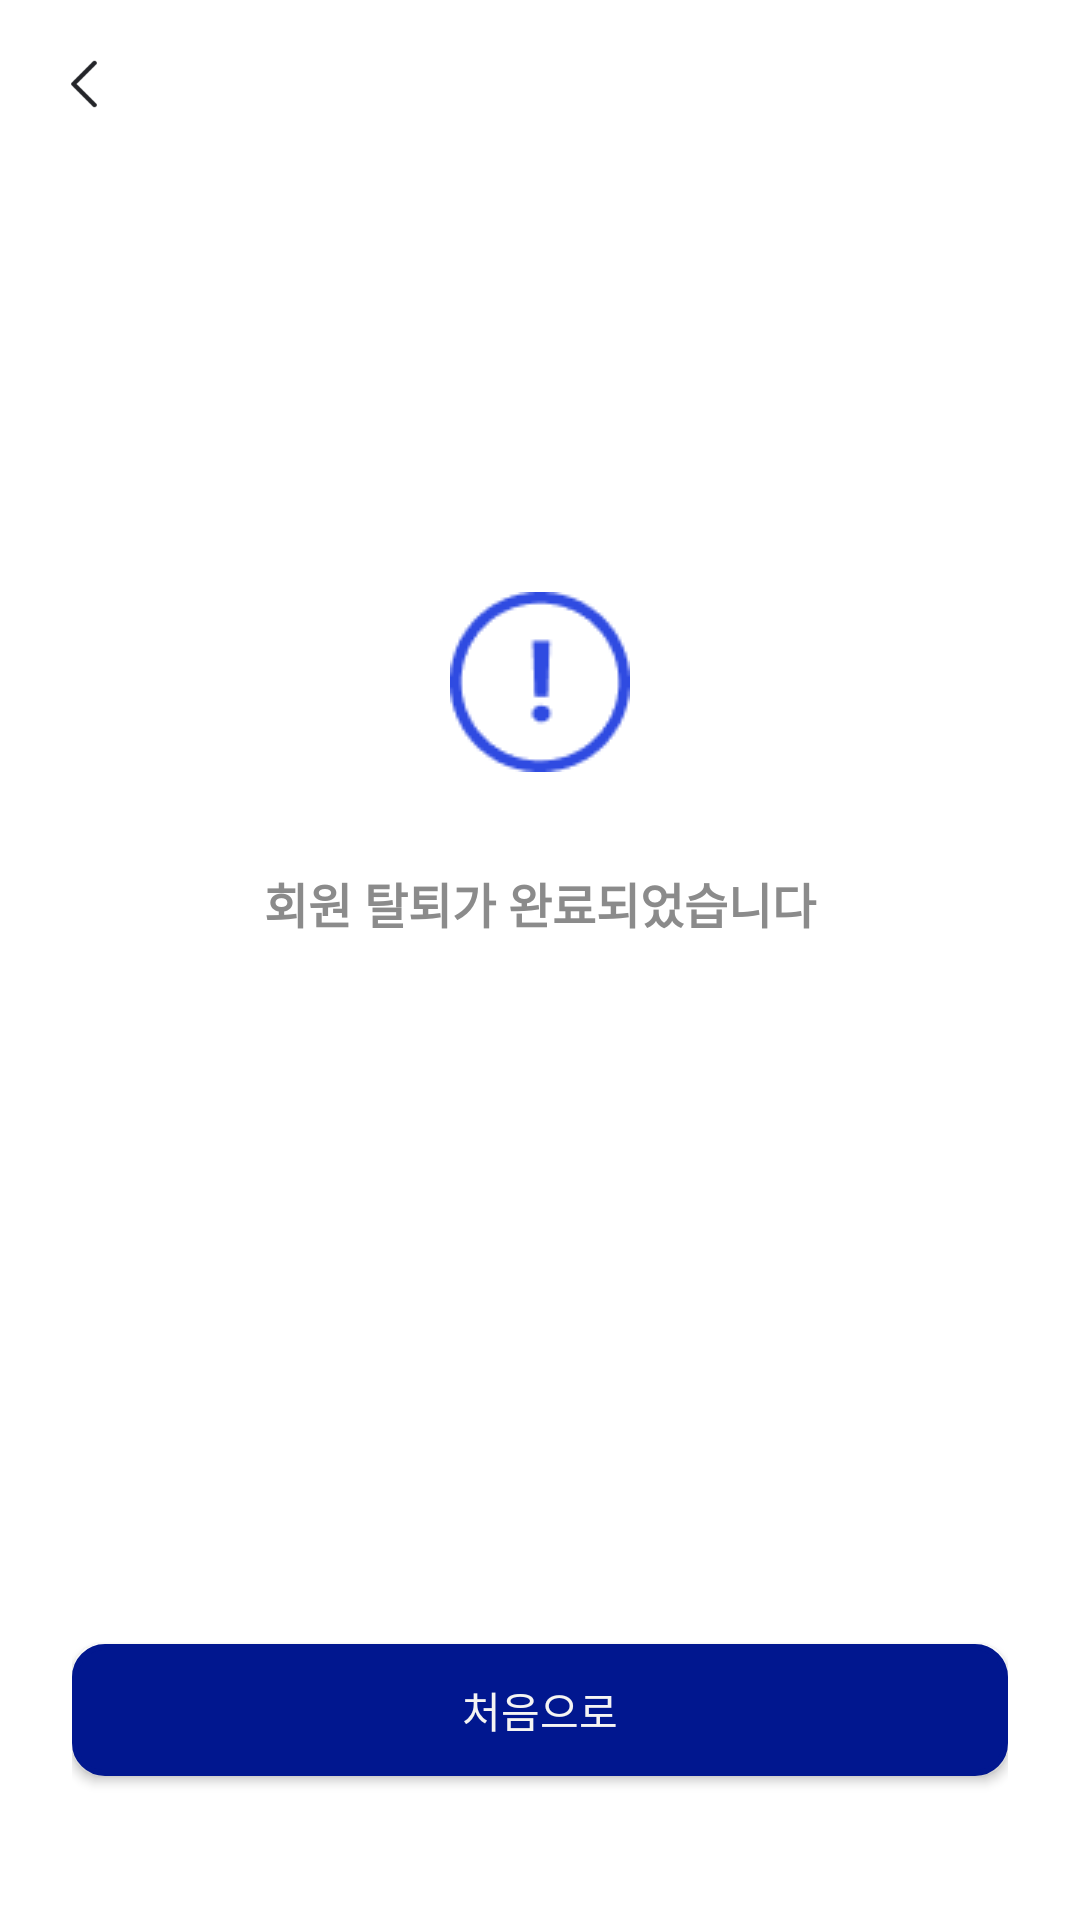

Icon click points for this 1080 x 1920 phone screenshot, format (x,y):
arrow: (84,84)
bang: (540,682)
